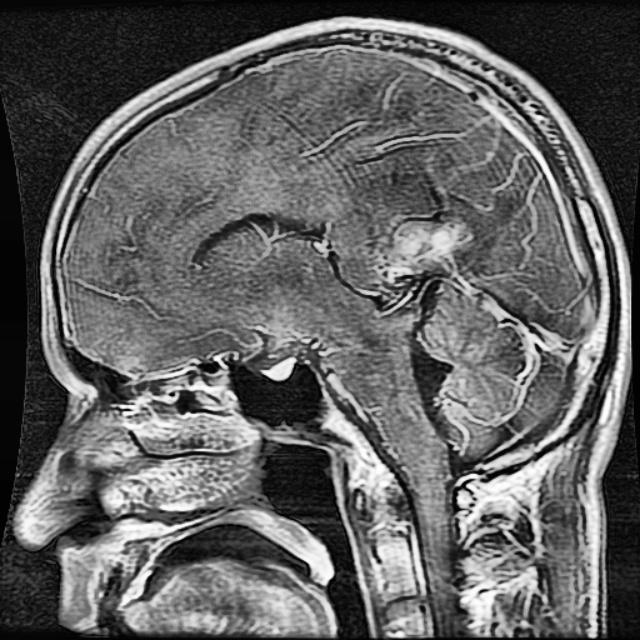Meningioma: (378, 218, 472, 280)
